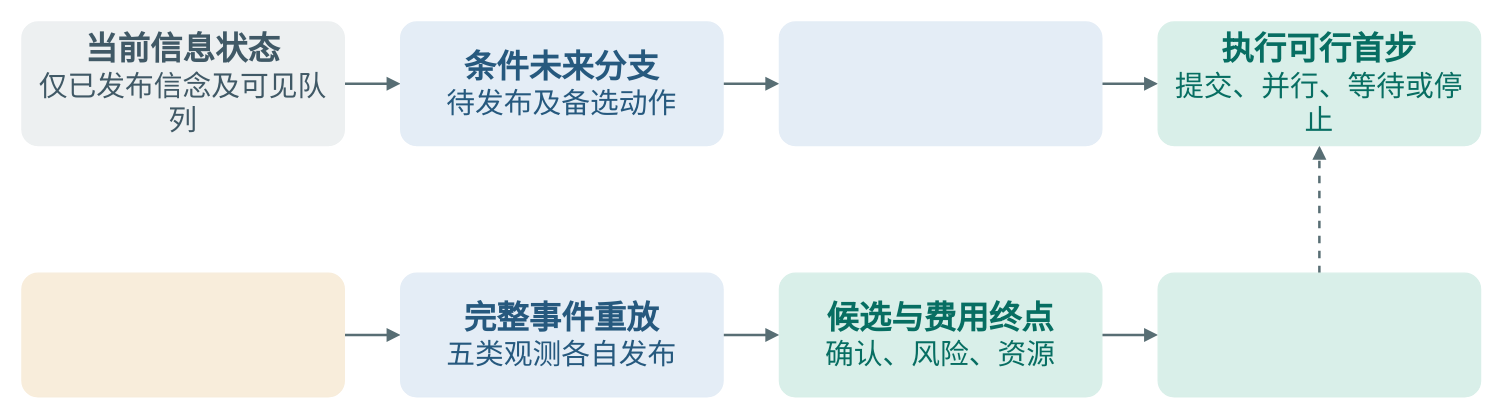
Some shapes in this 1503 by 419 pixel diagram are drawn without their labels. Each missing label, with the centre of its shape:
共同潜在情景 稳定键随机数、外层真 值: point 182,334
时间与发布预测 队列、审核、动作可用 性: point 940,83
配对政策比较 同种子差值与重复区间: point 1319,334
